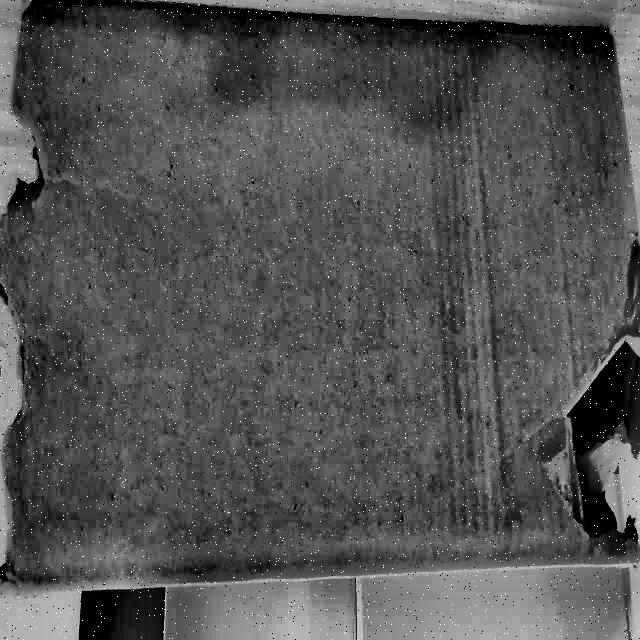box: (0, 1, 639, 608)
hole: (0, 108, 64, 579), (555, 333, 640, 566)
